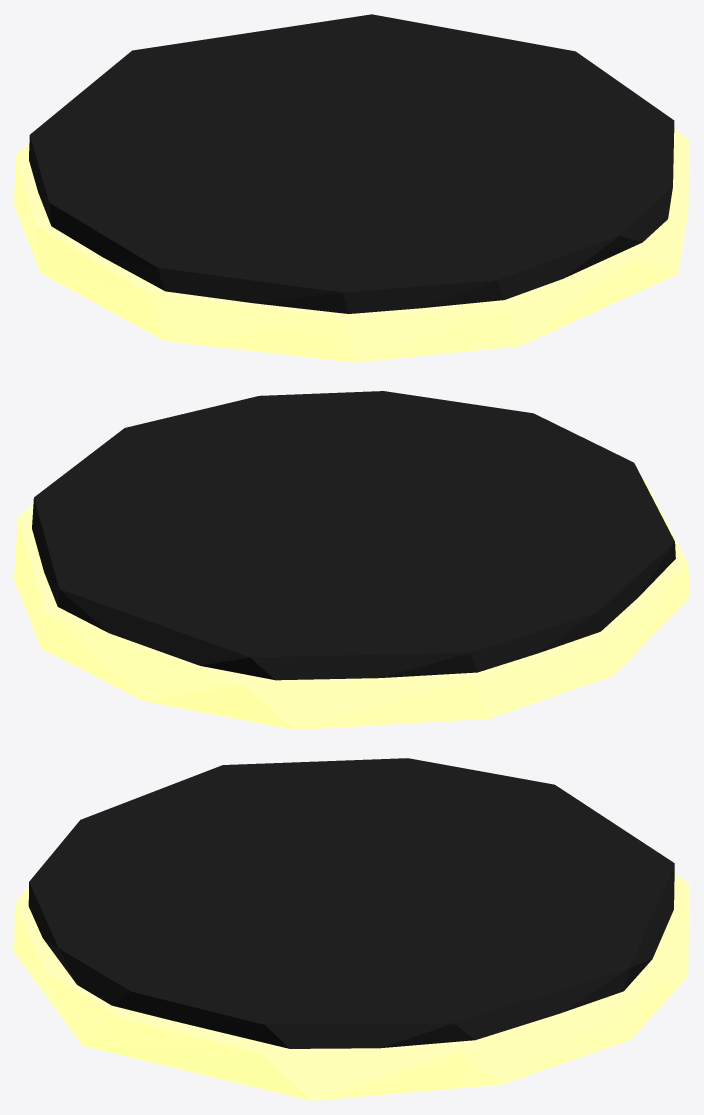
File: djdisc2.glb
3 views of the same model, one above another, from view 1: azimuth 30°, elevation 25°; view 2: azimuth 150°, elevation 25°; view 3: azimuth 270°, elevation 25° (orthographic).
Visible parts, largest first — view 1: disc1 moving; view 2: disc1 moving; view 3: disc1 moving.
Boxes of the visible parts, x1,y1,x2,y2 form: disc1 moving: (14,14,689,362); disc1 moving: (14,391,689,729); disc1 moving: (14,758,689,1100).
Bounding box in the file's own units: 0.3963 × 0.0411 × 0.3966.
